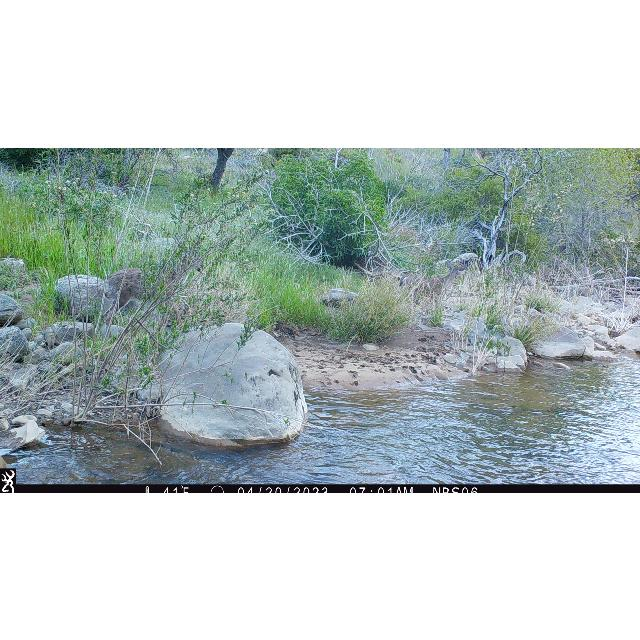animals: (104, 250, 202, 334)
